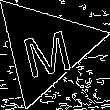M_N: (17, 18, 74, 77)
